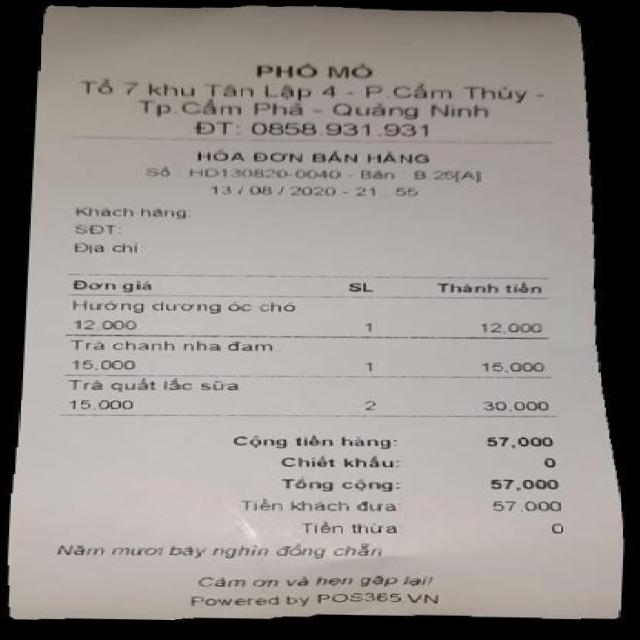Date: (202, 182, 336, 197)
Store_Name: (241, 59, 389, 82)
amount_number: (483, 476, 564, 491)
label_total: (275, 476, 409, 492)
